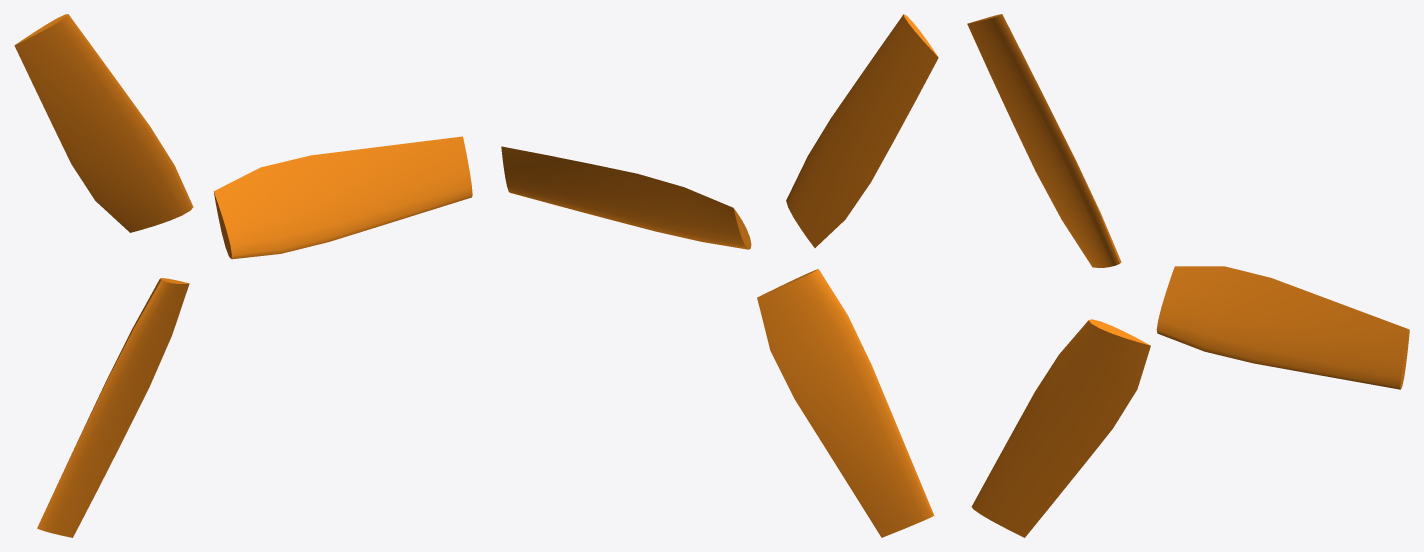
File: front_left_prop.obj
The picture shows the model from 3 angles, left to right: view 1: azimuth 30°, elevation 25°; view 2: azimuth 150°, elevation 25°; view 3: azimuth 330°, elevation 25°; orthographic projection. The views are drawn at different scales.
Visible parts, largest first — view 1: front_left_prop; view 2: front_left_prop; view 3: front_left_prop.
Boxes of the visible parts, left/top/right/bottom form: front_left_prop: left=14, top=14, right=472, bottom=537; front_left_prop: left=501, top=14, right=938, bottom=537; front_left_prop: left=967, top=14, right=1409, bottom=537.
Size of the model in its own units: 0.0876 by 0.0996 by 0.00707.
